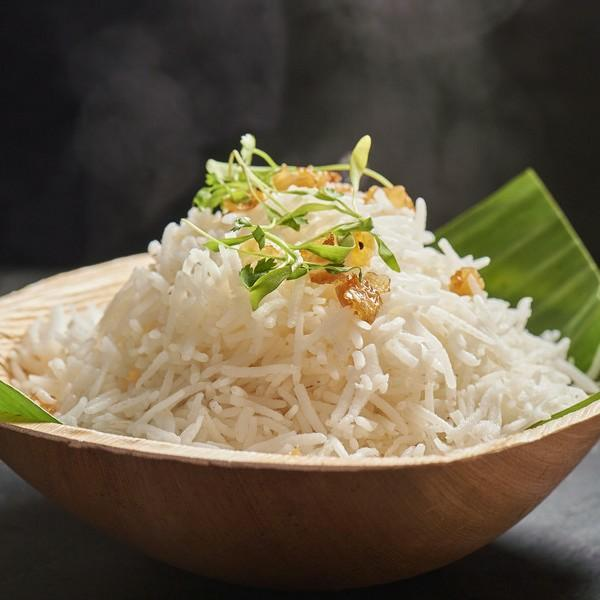WhiteRice: (0, 156, 600, 460)
